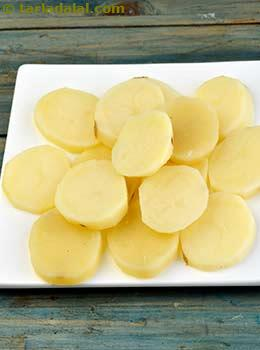boiled potatoes: (19, 89, 257, 280)
